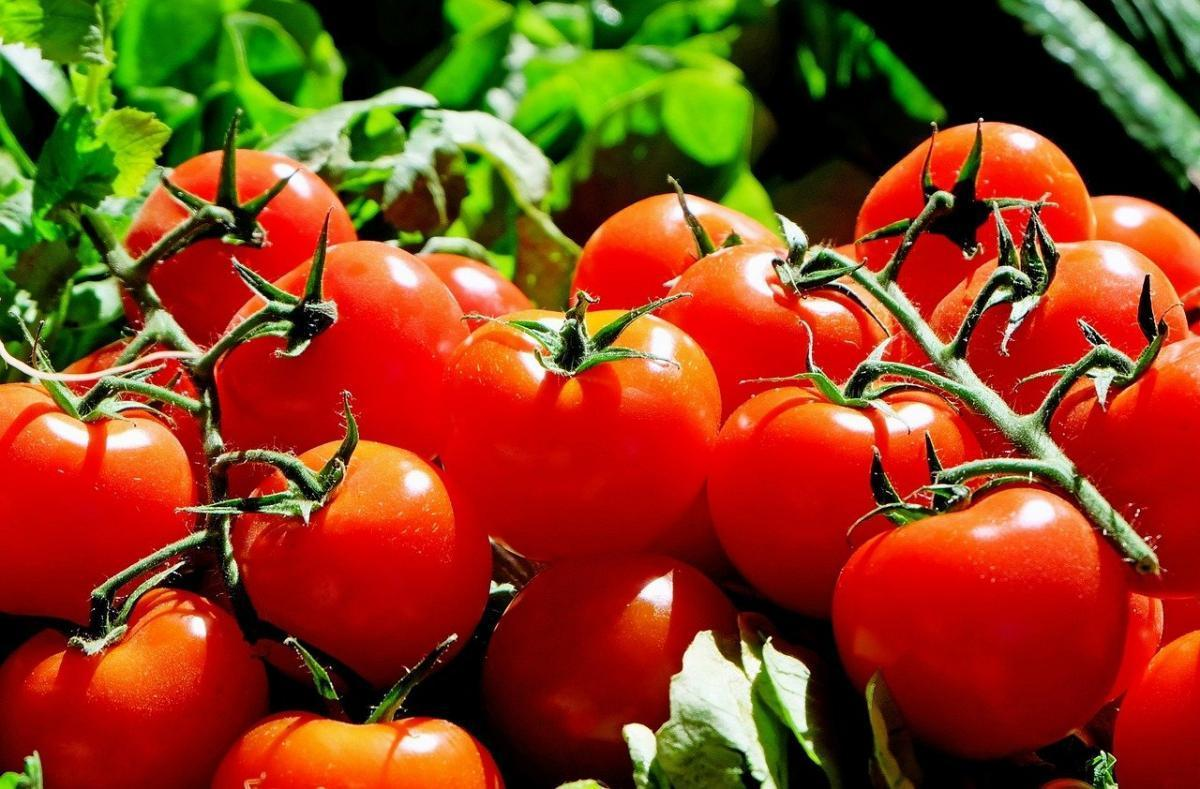healthy-tomato: (833, 486, 1136, 750), (441, 313, 727, 564), (707, 385, 1004, 624), (211, 247, 524, 468), (472, 554, 745, 789), (236, 439, 494, 680), (1, 341, 208, 628), (931, 238, 1188, 451), (18, 592, 274, 789), (847, 125, 1081, 315), (647, 241, 889, 414), (121, 151, 324, 354), (213, 648, 505, 789), (1041, 337, 1200, 591), (573, 193, 777, 317), (1089, 195, 1200, 332), (412, 238, 550, 330)
